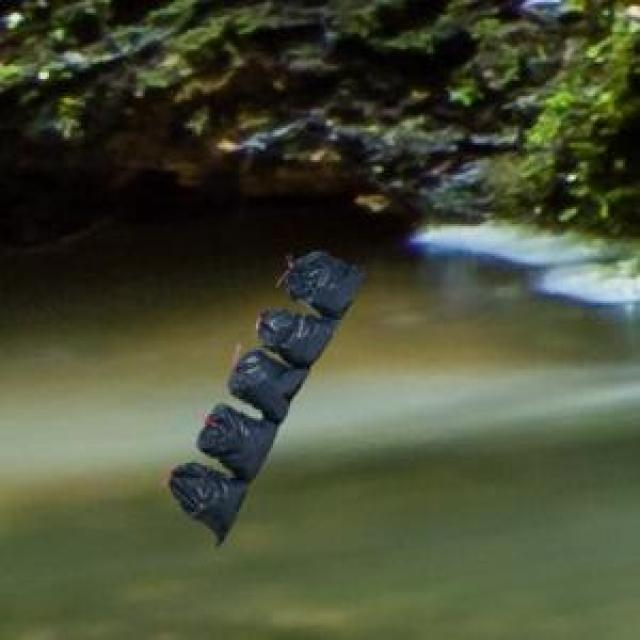miscellaneous trash: (164, 248, 361, 542)
